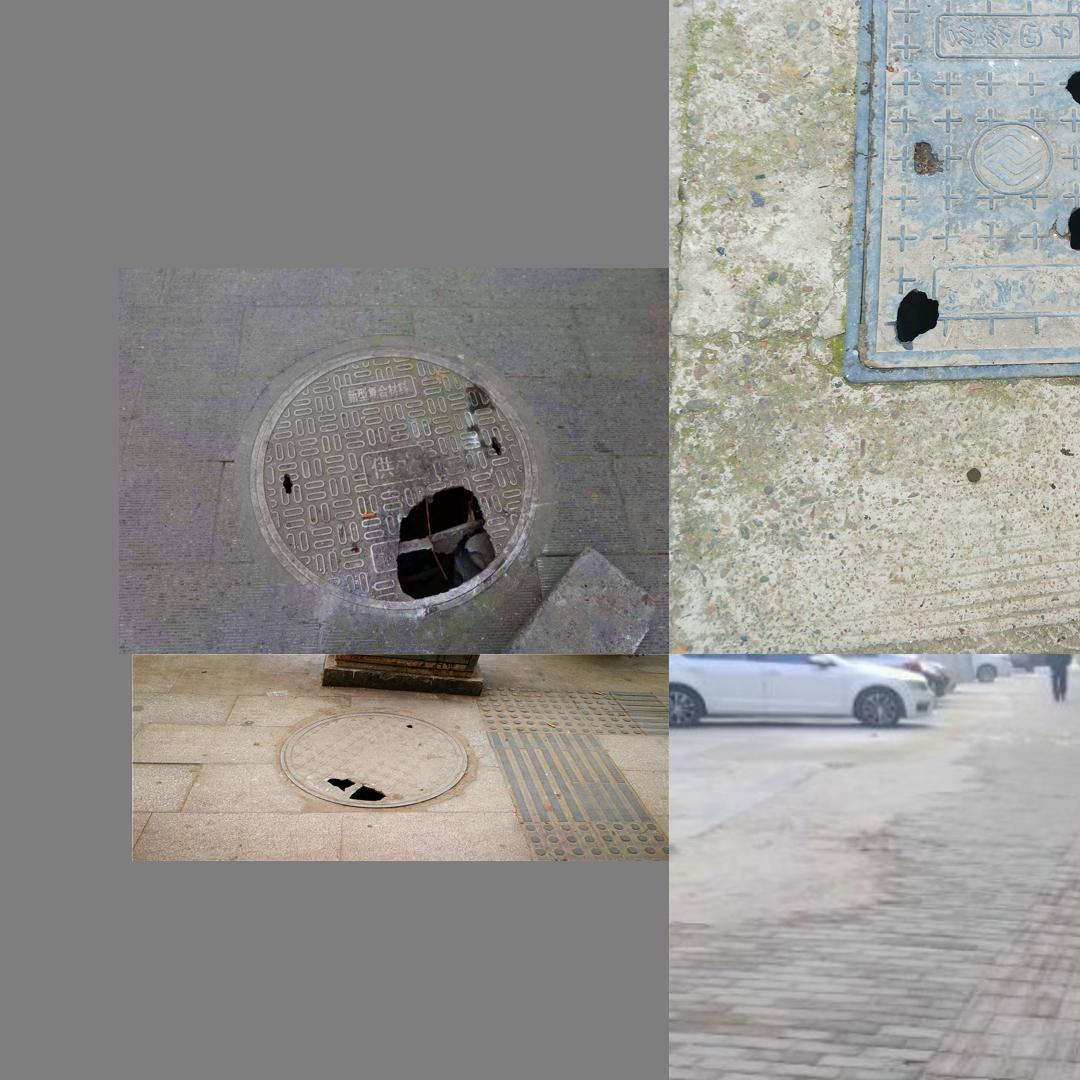broke: (838, 0, 1080, 386), (248, 353, 532, 608), (280, 710, 467, 807)
